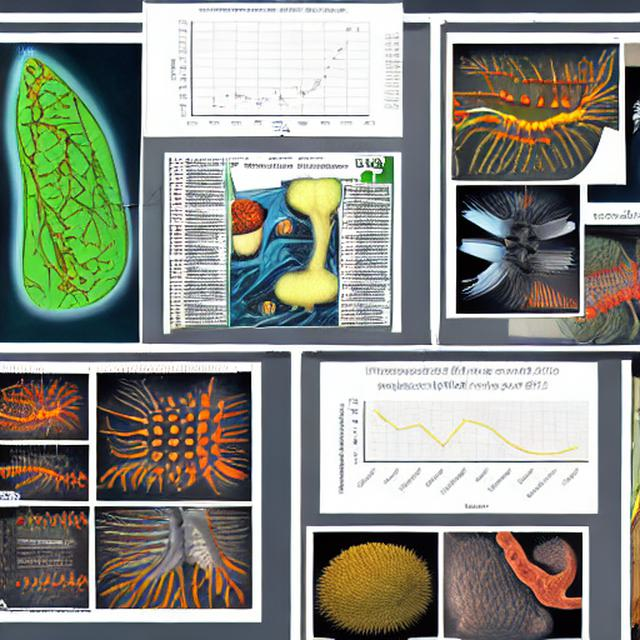Graph: (333, 363, 592, 512), (168, 4, 378, 132), (5, 558, 89, 608), (519, 272, 580, 313)
